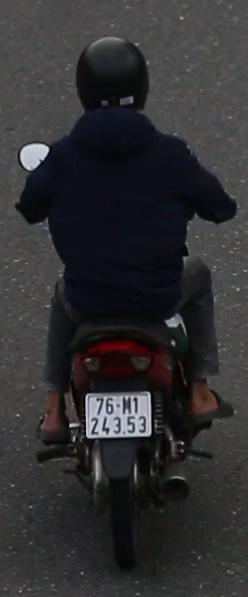LP: (78, 387, 161, 450)
helmet: (72, 33, 155, 118)
